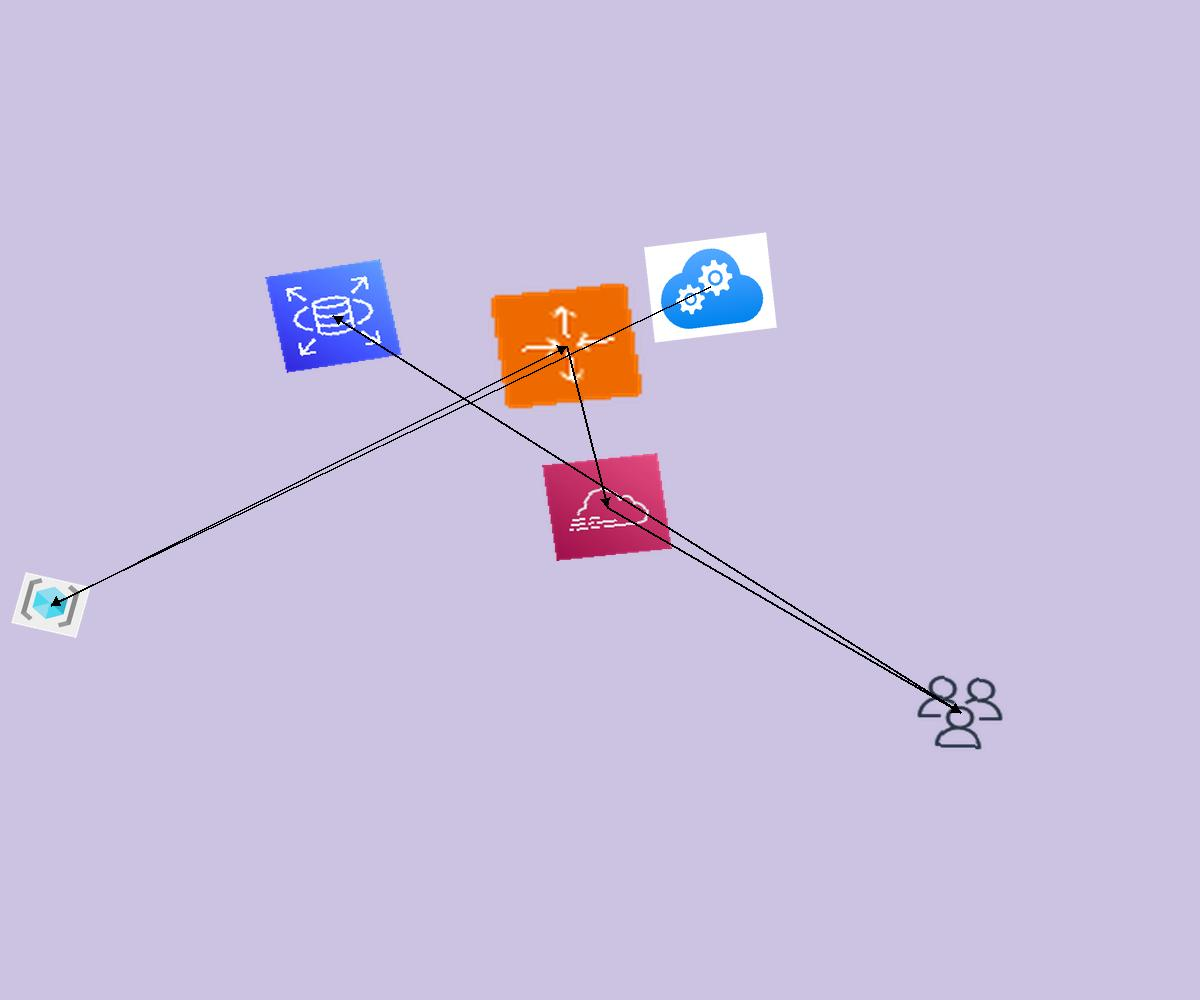AWS-CloudTrail: (542, 453, 672, 561)
AWS-RDS: (265, 259, 402, 373)
AWS-Res_Users: (910, 671, 1010, 754)
AWS-Scaling-group: (488, 281, 645, 411)
Azure_cloud_services: (644, 232, 777, 343)
Azure_resource_group: (11, 572, 91, 638)
